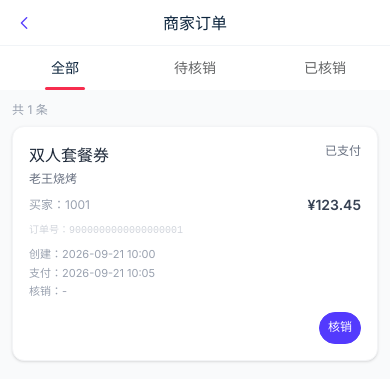
Test: Merchant/OrderList.vue — 核销成功后的刷新 › 「全部」Tab 核销成功后展示后端最新状态（已核销 + useTime），不手动改本地状态
The image size is (390, 379).
Click the button with test id "redeem-button": coordinates (340, 328) [319,312,361,344]
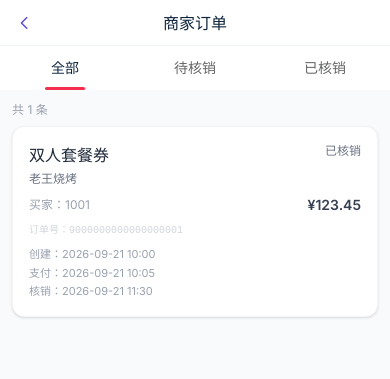
Expected: the text "已核销" next to "待核销" is shown, [304,59,346,76]
Now the element with test id "merchant-order-card" shows "核销：2026-09-21 11:30", box [29,284,153,298]
Now no buttons with test id "redeem-button" are shown
